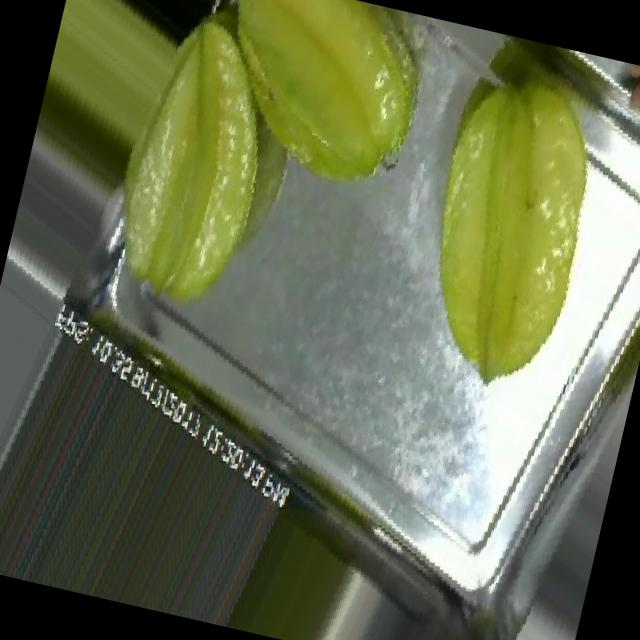fruit: (332, 19, 640, 436), (0, 269, 344, 638), (26, 0, 366, 363)
